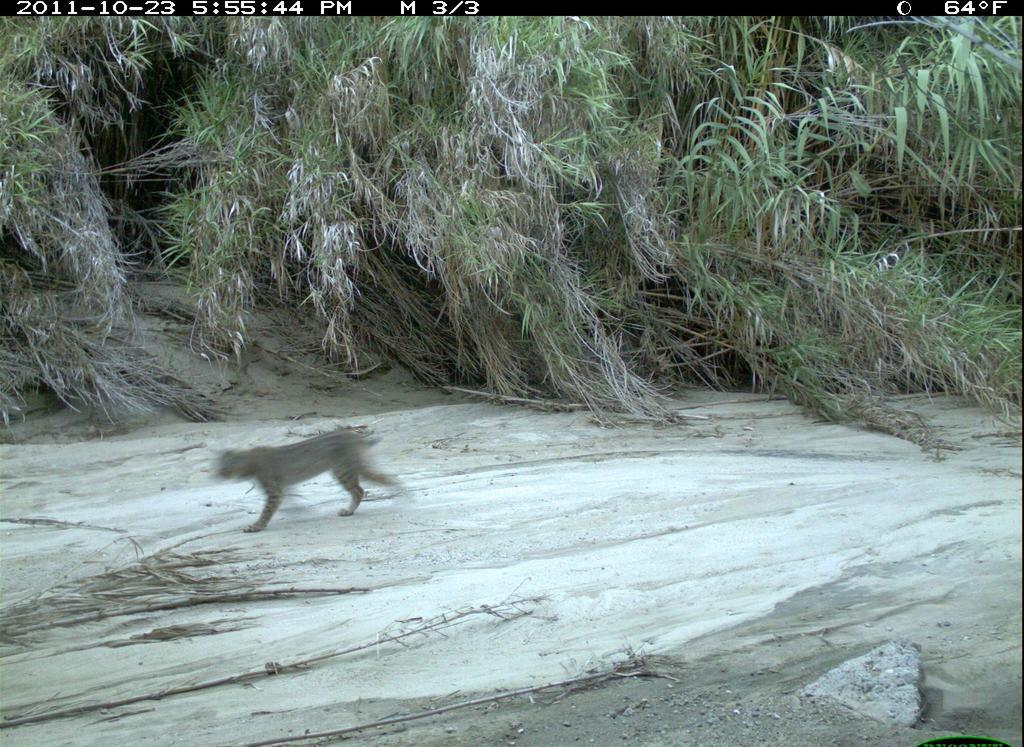bobcat: (213, 425, 414, 539)
